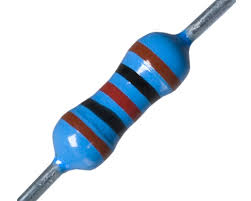resistor: (39, 19, 204, 193)
